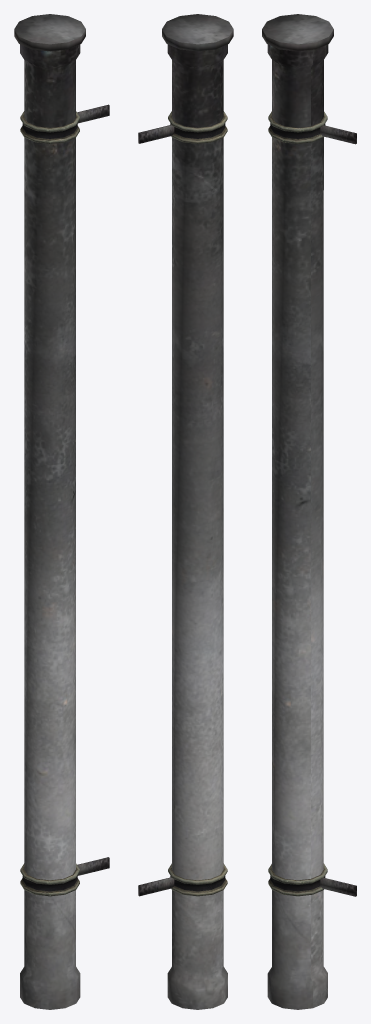
Rendered from SM_drainage_pole_01.fbx.
3 renders of one model, left to right at view 1: azimuth 30°, elevation 25°; view 2: azimuth 210°, elevation 25°; view 3: azimuth 330°, elevation 25°, orthographic.
Parts seen in each view (by area): view 1: SM_drainage_pole_01; view 2: SM_drainage_pole_01; view 3: SM_drainage_pole_01.
Boxes of the visible parts, bbox=[...] form: SM_drainage_pole_01: bbox=[14, 14, 109, 1009]; SM_drainage_pole_01: bbox=[138, 14, 233, 1009]; SM_drainage_pole_01: bbox=[262, 14, 356, 1009].
Bounding box in the file's own units: 27.97 × 19.37 × 288.
1 material, 1 textured.
